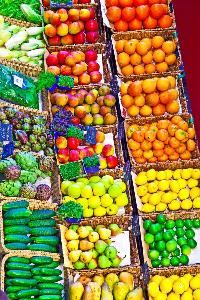apple: (48, 84, 119, 132), (62, 170, 128, 220), (57, 126, 121, 168), (44, 6, 102, 44), (47, 50, 107, 85)
cucumber: (0, 206, 62, 251), (2, 256, 62, 300)
lemon: (130, 168, 200, 210), (148, 264, 200, 300)
lime: (140, 213, 200, 265)
orange: (126, 118, 200, 160), (109, 32, 179, 74), (119, 80, 187, 114), (100, 0, 174, 30)
pear: (62, 222, 130, 272), (68, 268, 148, 300)
